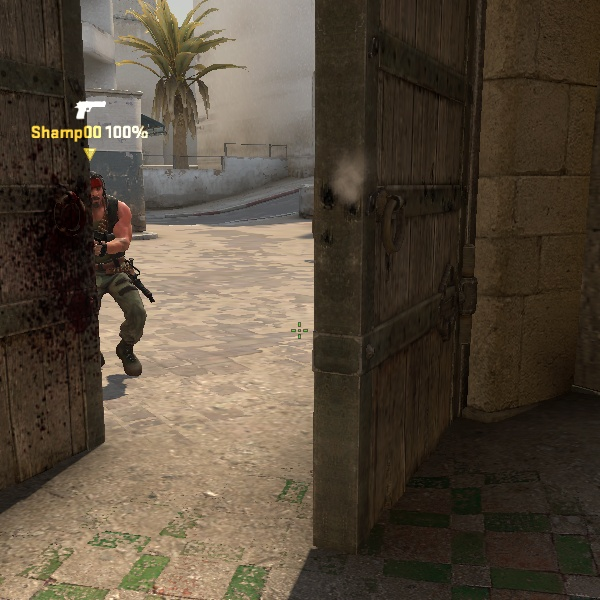t_body: (79, 167, 168, 390)
t_head: (66, 167, 112, 213)
